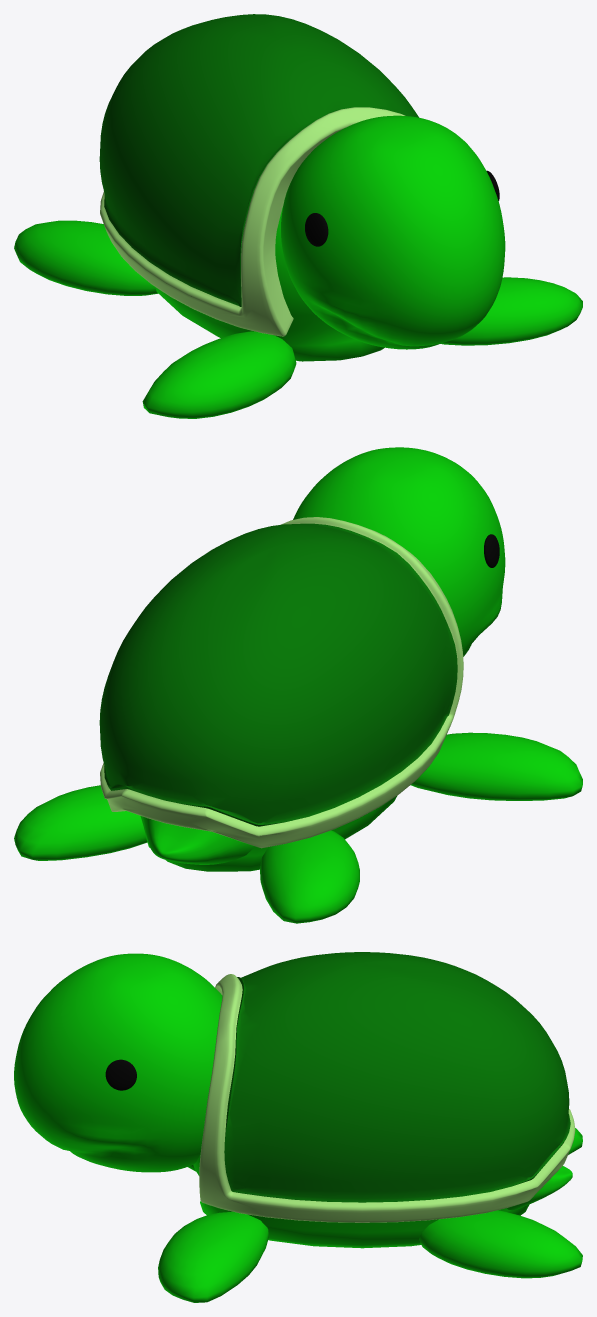
File: TURTLE.fbx
3 renders of one model, top to bottom at view 1: azimuth 30°, elevation 25°; view 2: azimuth 150°, elevation 25°; view 3: azimuth 270°, elevation 25°, orthographic. The views are drawn at different scales.
Visible parts, largest first — view 1: pSphere15, pSphere7, pSphere9, pSphere13, pSphere10, pSphere8, pSphere14; view 2: pSphere15, pSphere7, pSphere10, pSphere13, pSphere9, pSphere12, pSphere8; view 3: pSphere15, pSphere7, pSphere13, pSphere10, pSphere9, pSphere8, pSphere14, pSphere12.
Boxes of the visible parts, x1=… form: pSphere15: x1=99, y1=14, x2=418, y2=306; pSphere7: x1=281, y1=115, x2=505, y2=349; pSphere9: x1=142, y1=277, x2=582, y2=418; pSphere13: x1=100, y1=107, x2=405, y2=336; pSphere10: x1=14, y1=220, x2=157, y2=295; pSphere8: x1=155, y1=207, x2=384, y2=361; pSphere14: x1=305, y1=170, x2=499, y2=246; pSphere15: x1=99, y1=523, x2=457, y2=826; pSphere7: x1=293, y1=447, x2=505, y2=656; pSphere10: x1=14, y1=785, x2=359, y2=923; pSphere13: x1=100, y1=517, x2=463, y2=848; pSphere9: x1=410, y1=732, x2=582, y2=800; pSphere12: x1=142, y1=816, x2=253, y2=864; pSphere8: x1=140, y1=795, x2=397, y2=871; pSphere15: x1=224, y1=952, x2=570, y2=1202; pSphere7: x1=14, y1=953, x2=222, y2=1172; pSphere13: x1=199, y1=974, x2=575, y2=1222; pSphere10: x1=419, y1=1128, x2=582, y2=1278; pSphere9: x1=158, y1=1165, x2=268, y2=1302; pSphere8: x1=193, y1=1153, x2=529, y2=1248; pSphere14: x1=105, y1=1059, x2=136, y2=1090; pSphere12: x1=507, y1=1166, x2=572, y2=1210.
Bounding box in the file's own units: 3.75 × 2.2 × 4.54.
